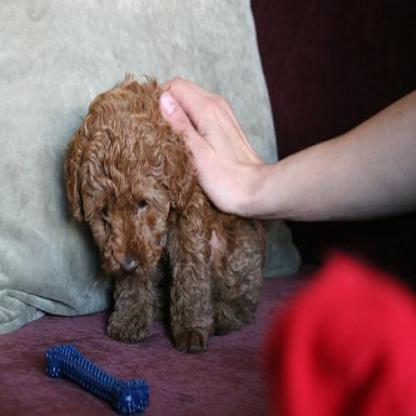miniature_poodle: (64, 74, 272, 348)
